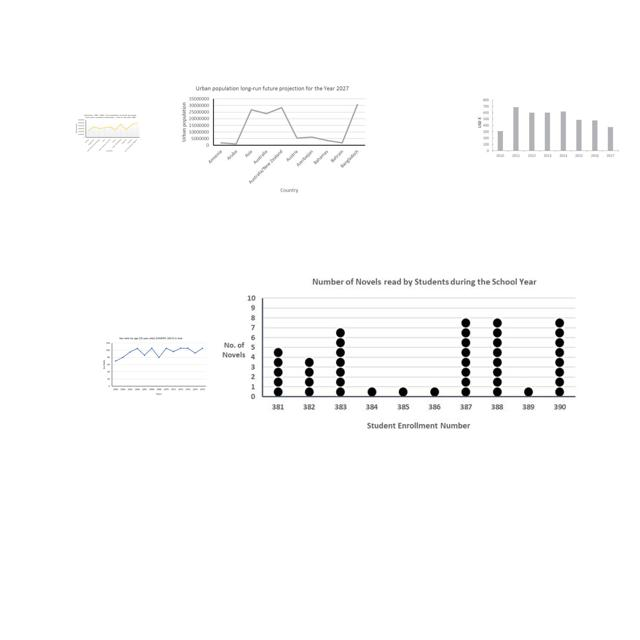Graph: (216, 272, 581, 433), (177, 82, 368, 195), (474, 93, 622, 162), (101, 334, 208, 398), (75, 113, 141, 153)
